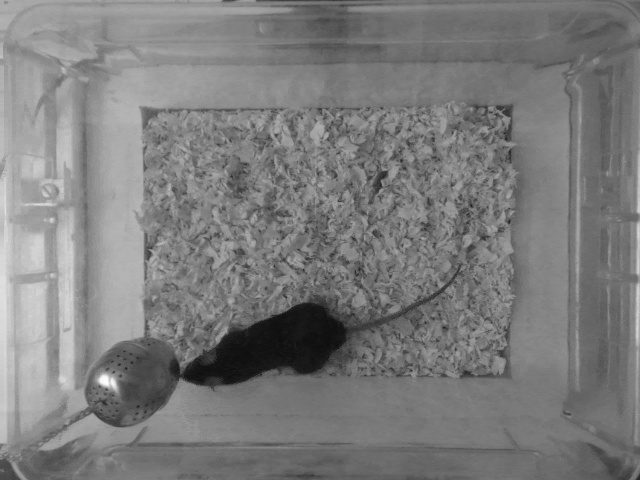mice: (178, 258, 464, 391)
